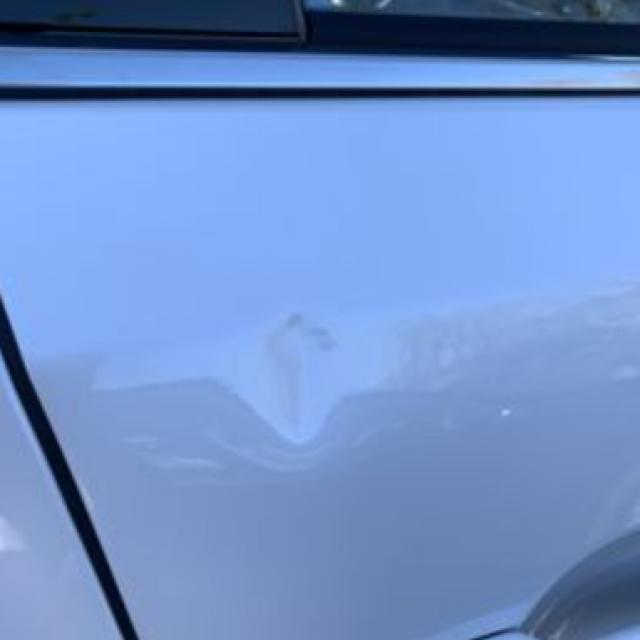dents: (220, 306, 344, 443)
